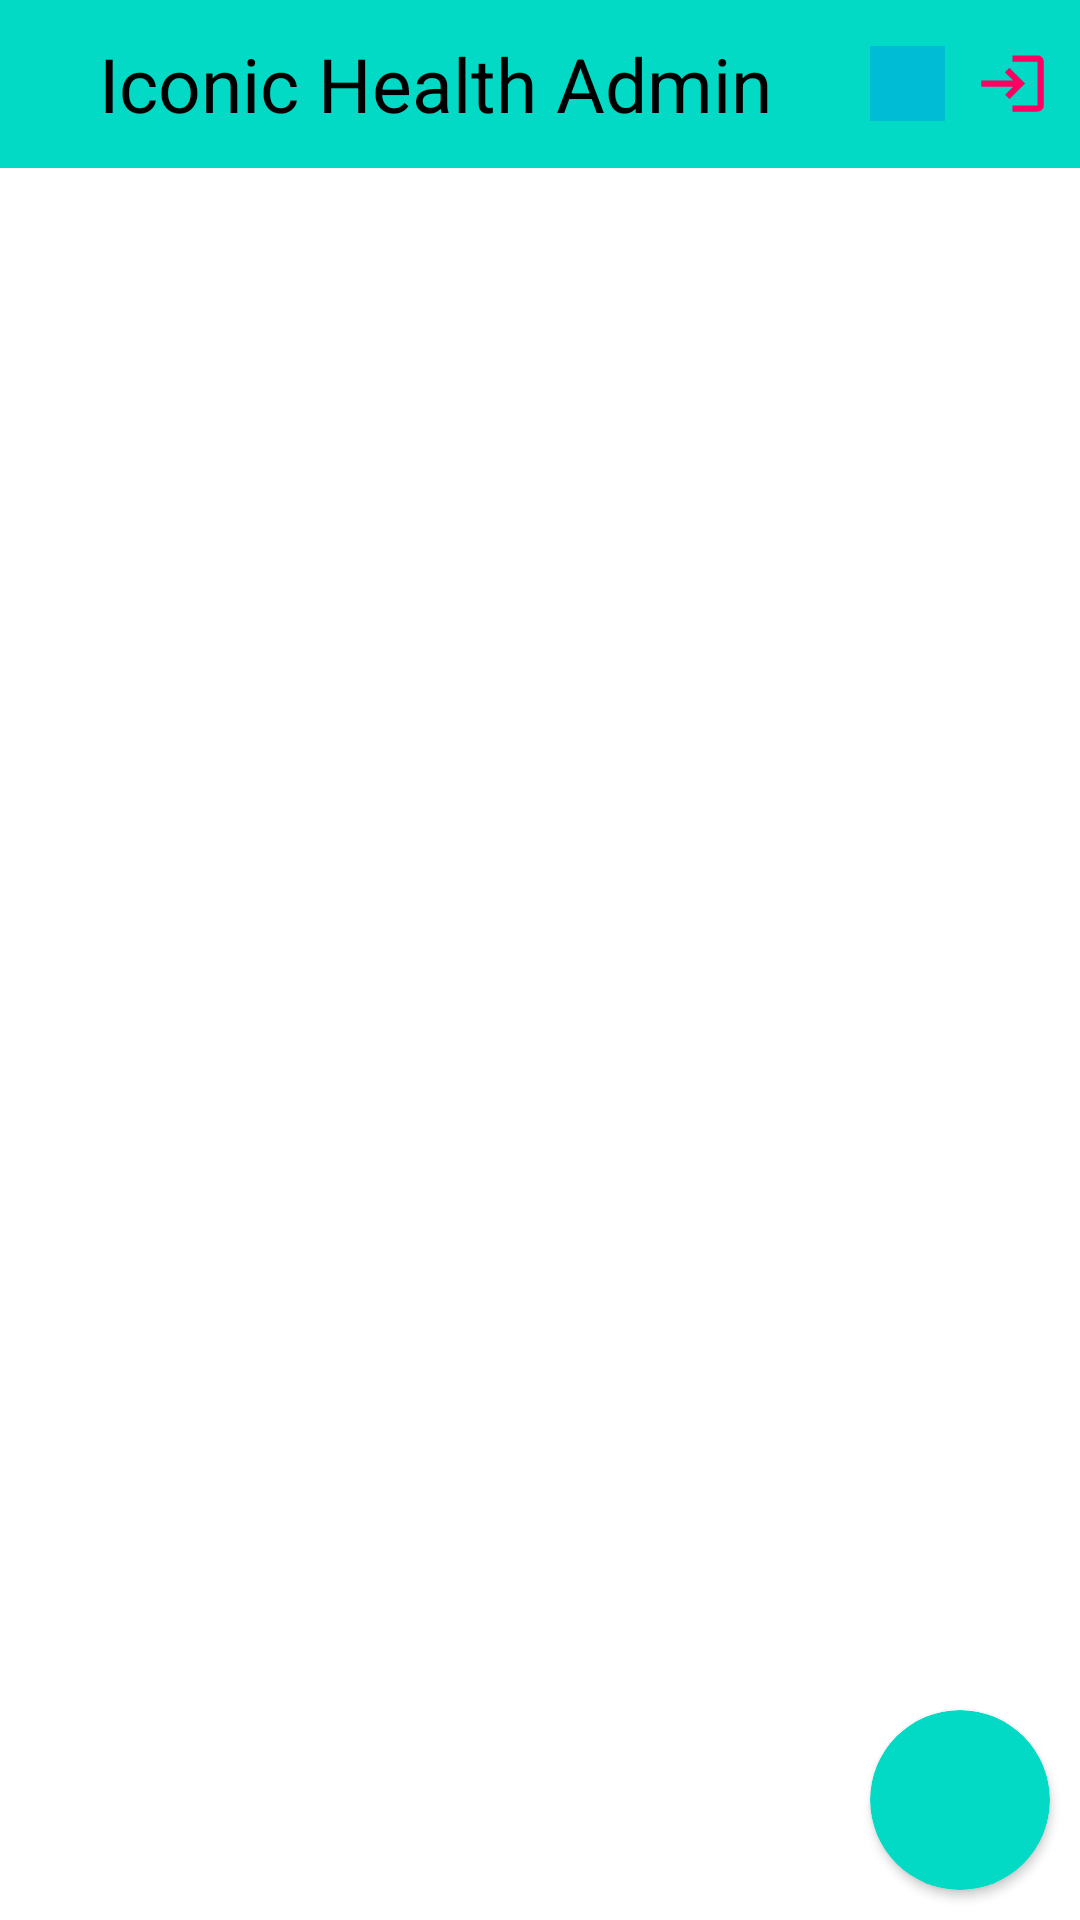

Screen size 1080px×1920px. Icon name, then its box in pixels as (x1, y1, x2, y2):
login: (981, 55, 1044, 112)
